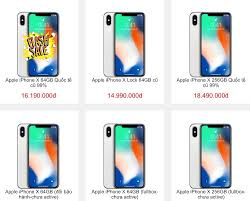iphone10: (16, 9, 61, 78), (102, 9, 147, 78), (189, 10, 234, 79), (187, 121, 232, 190), (102, 120, 147, 189), (16, 120, 61, 189)
